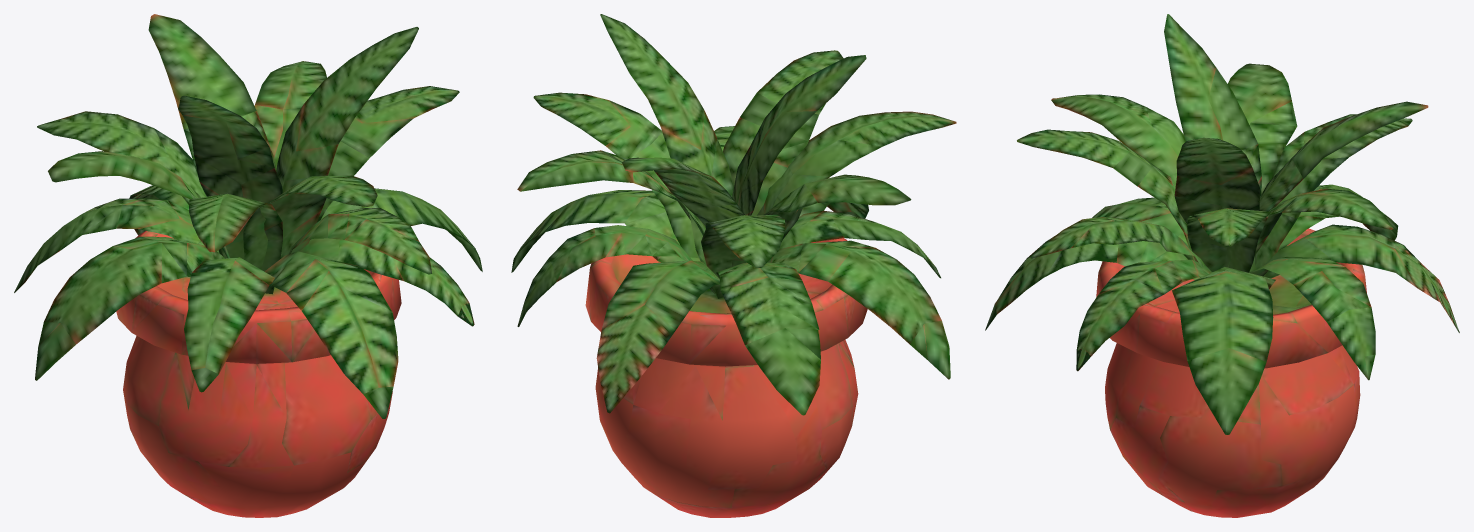
The model's file is item-pottedFern.glb.
3 renders of one model, left to right at view 1: azimuth 30°, elevation 25°; view 2: azimuth 150°, elevation 25°; view 3: azimuth 270°, elevation 25°, orthographic. The views are drawn at different scales.
Bounding box in the file's own units: 0.9575 × 0.9136 × 0.9214.
Materials: 1 (1 with a texture image).
